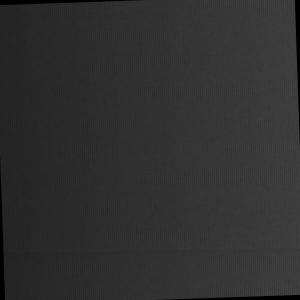Wrinkle: (4, 228, 300, 268)
